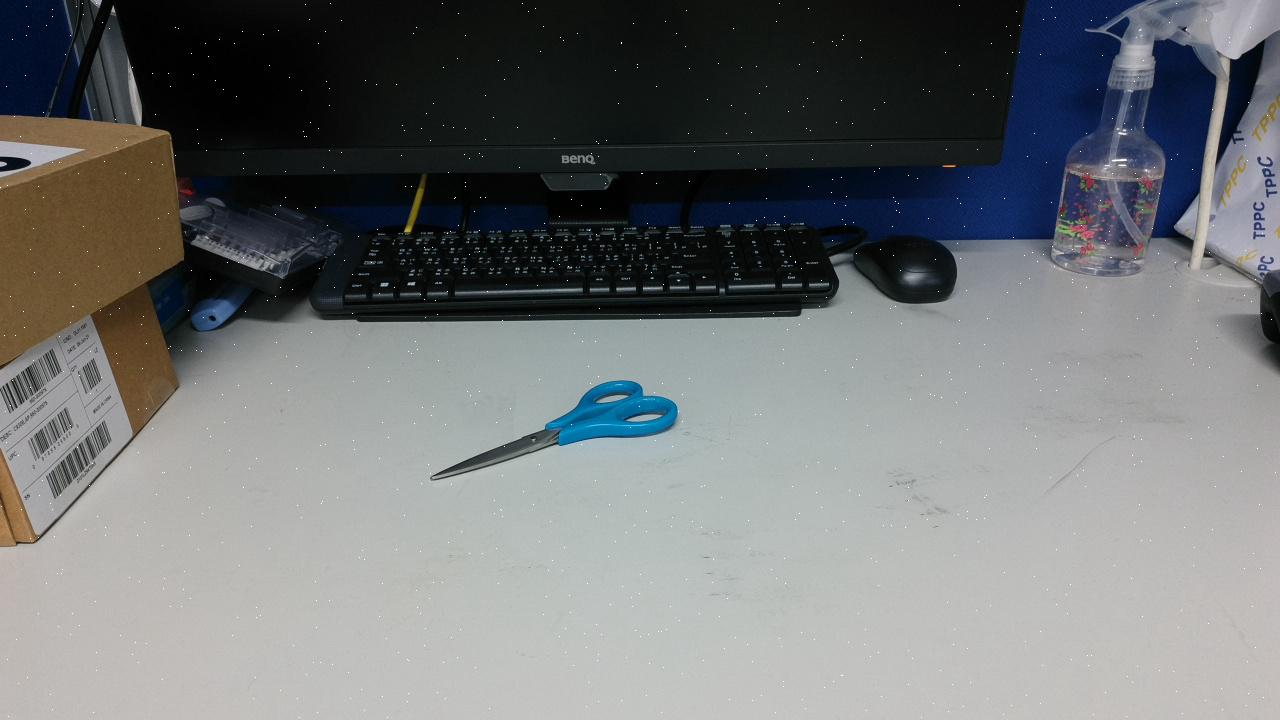long: (394, 333, 470, 566)
